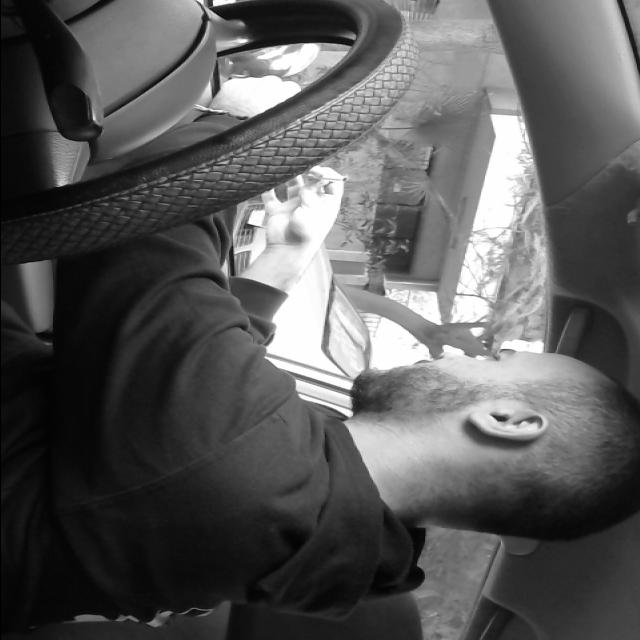smoking: (298, 166, 359, 189)
